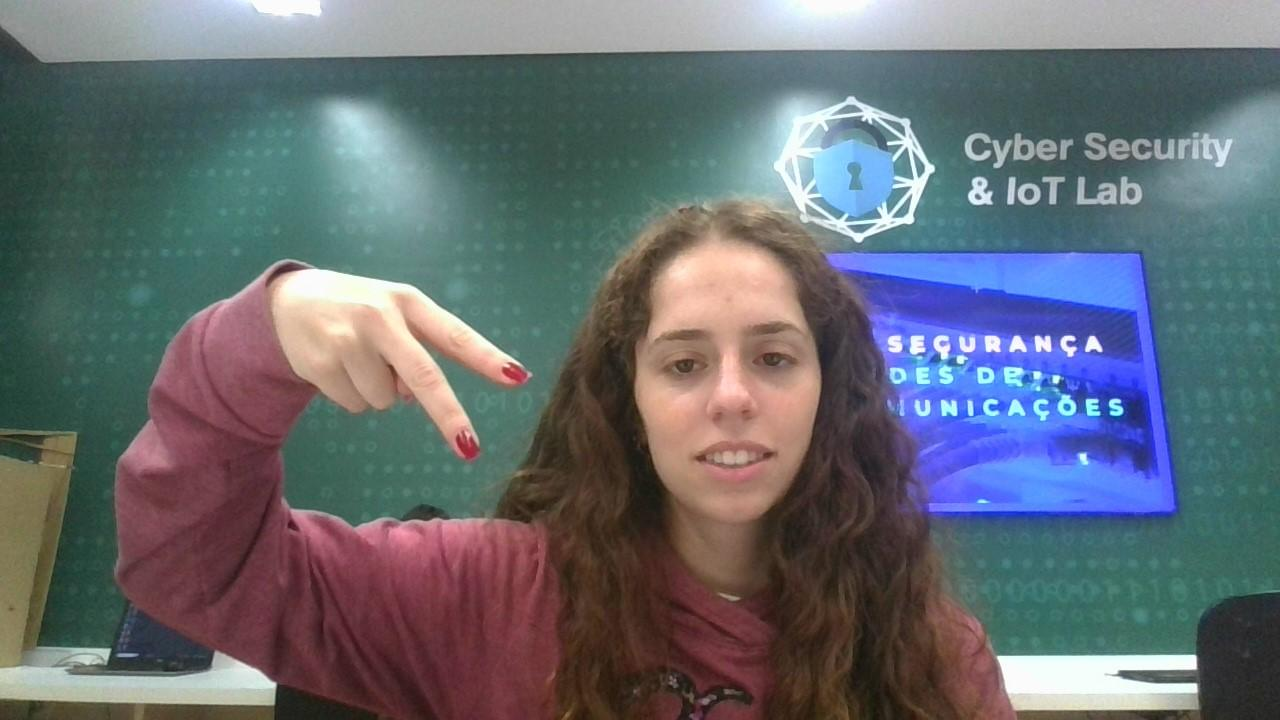P: (260, 261, 539, 466)
